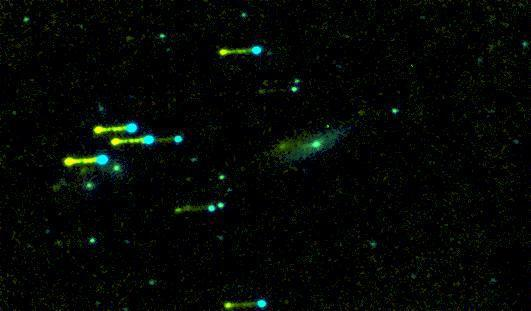star: (267, 131, 297, 161)
